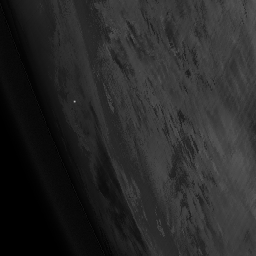Target: (72, 99, 76, 103)
